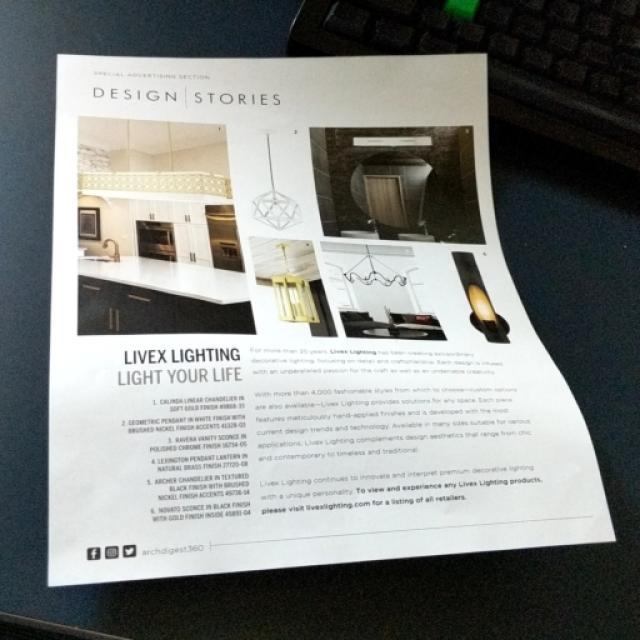document: (51, 54, 614, 585)
